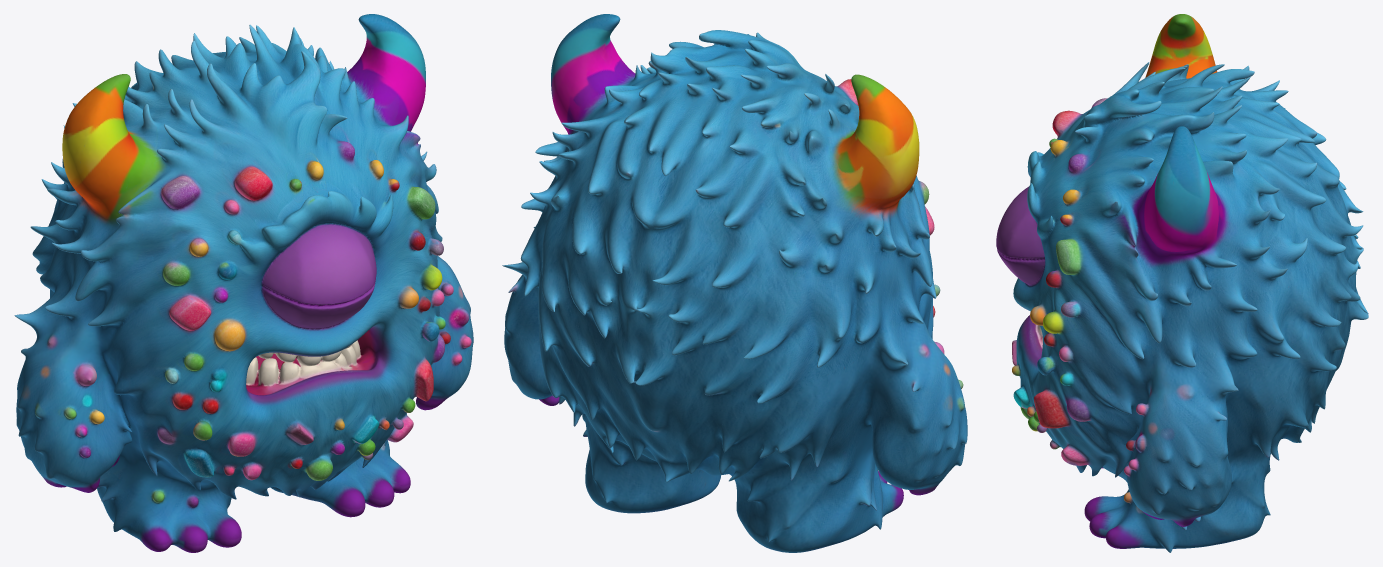
The model's file is BlueCandorHit.glb.
The picture shows the model from 3 angles, left to right: view 1: azimuth 30°, elevation 25°; view 2: azimuth 150°, elevation 25°; view 3: azimuth 270°, elevation 25°; orthographic projection. The views are drawn at different scales.
Bounding box in the file's own units: 1.9 × 1.85 × 1.48.
Materials: 1 (1 with a texture image).
